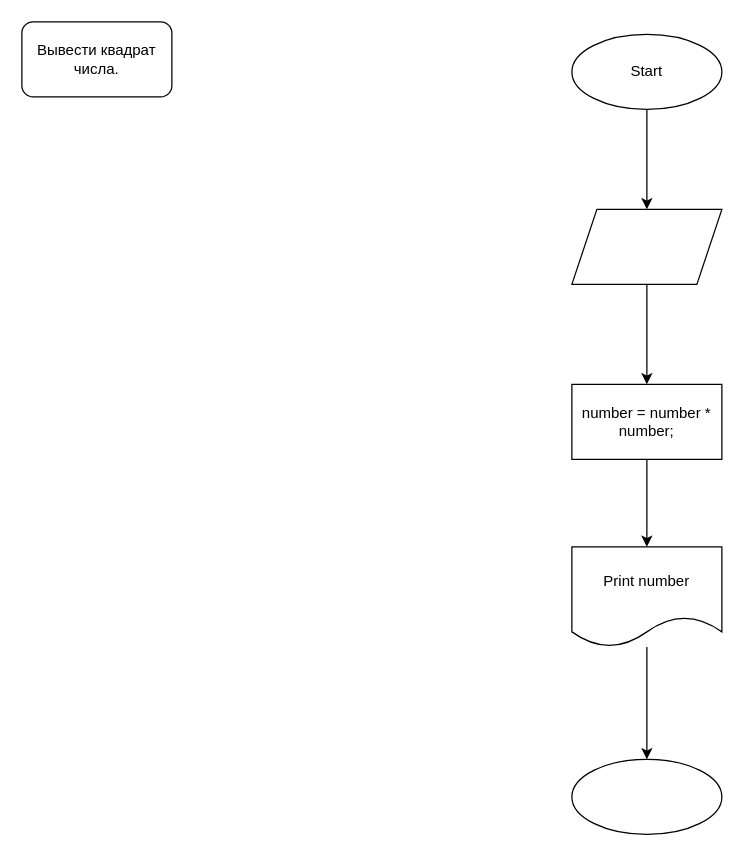
The diagram is 744 pixels wide and 856 high, and some of its shapes have lost their labels. Each missing label, with the box of its shape:
End: (571, 758, 722, 834)
number: (571, 208, 722, 284)
